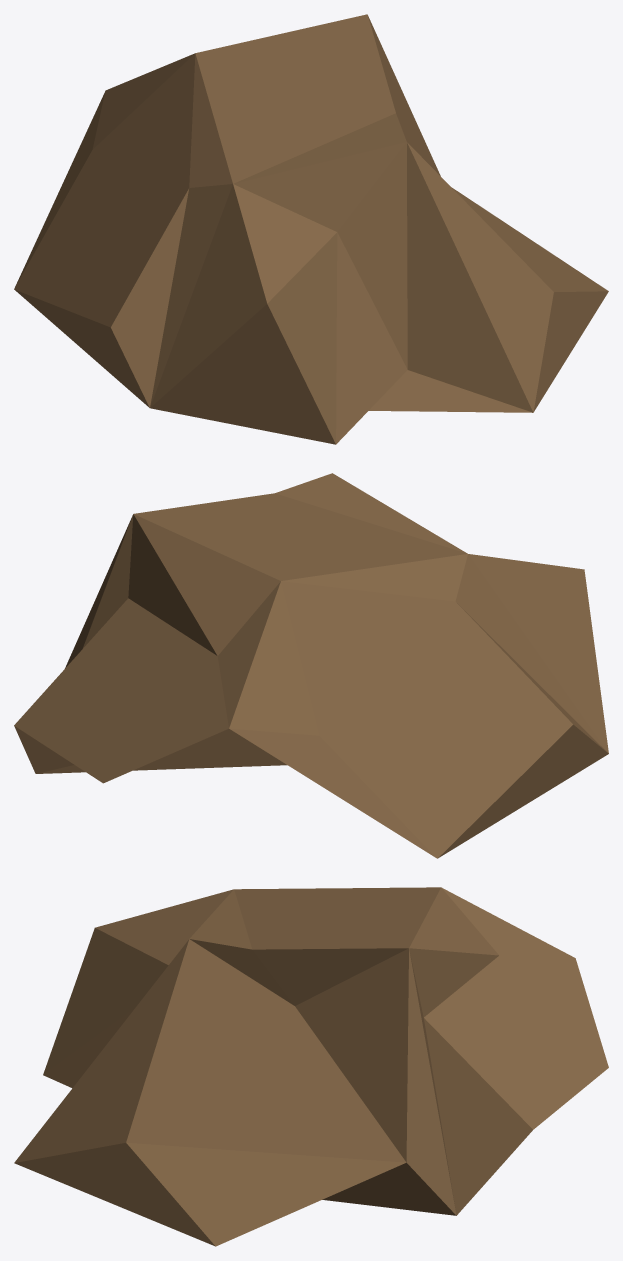
The model's file is rock.glb.
3 views of the same model, one above another, from view 1: azimuth 30°, elevation 25°; view 2: azimuth 150°, elevation 25°; view 3: azimuth 270°, elevation 25° (orthographic). The views are drawn at different scales.
Visible parts, largest first — view 1: model; view 2: model; view 3: model.
Boxes of the visible parts, x1,y1,x2,y2 form: model: (14,14,608,444); model: (14,473,608,858); model: (14,887,608,1246).
Bounding box in the file's own units: 1.17 × 0.5694 × 1.3.
